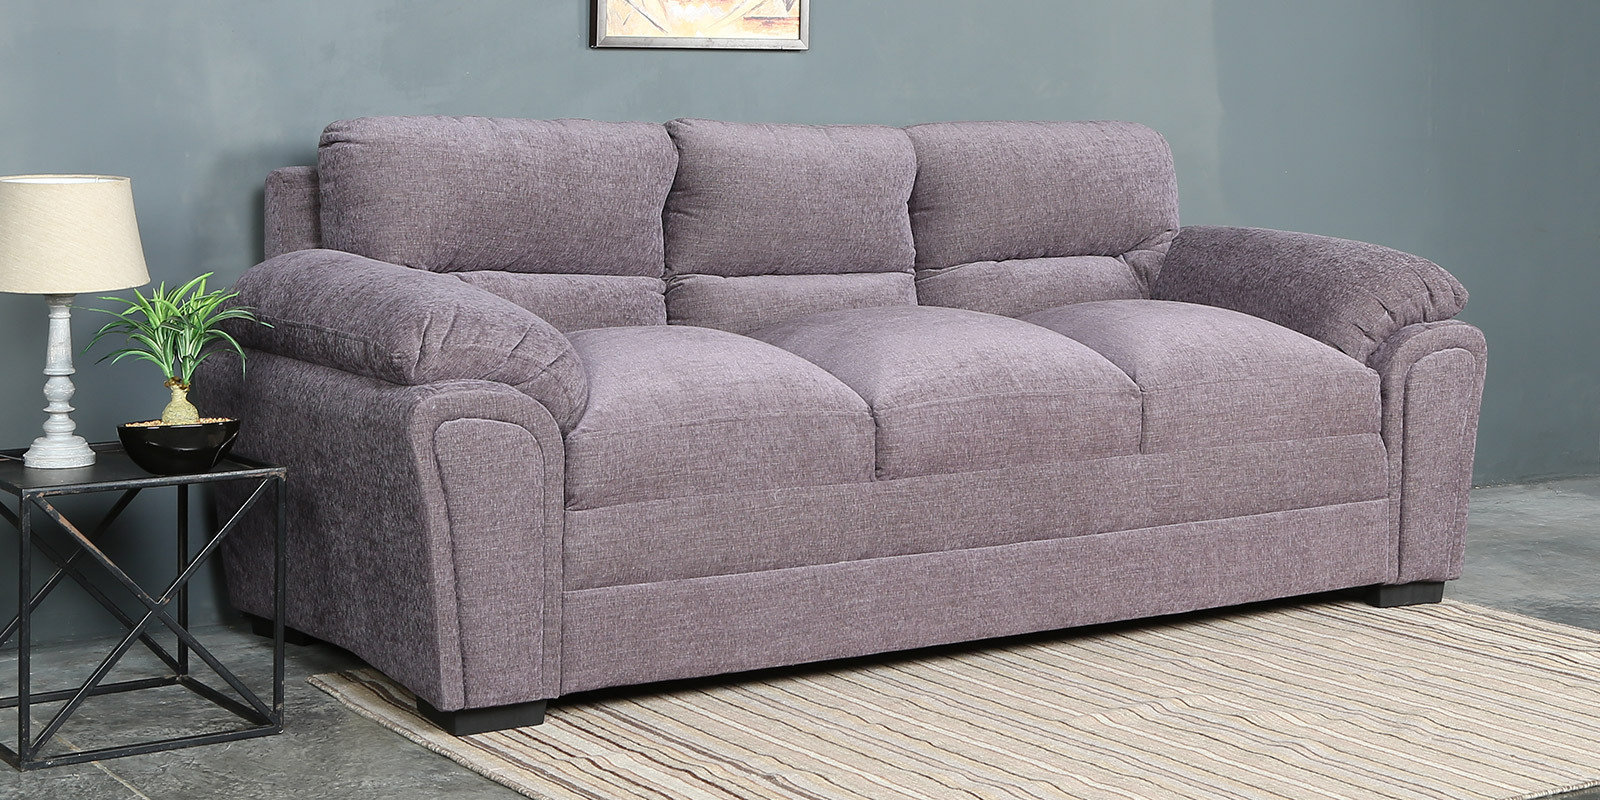Brass Three Seater Sofa in Dark Grey Colour by Furniture Mind: (197, 121, 1500, 707)
